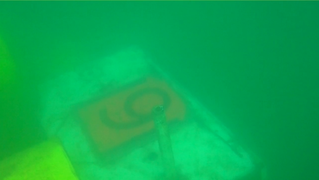console: (33, 44, 268, 180)
pipe: (1, 133, 82, 180), (1, 36, 23, 95)
